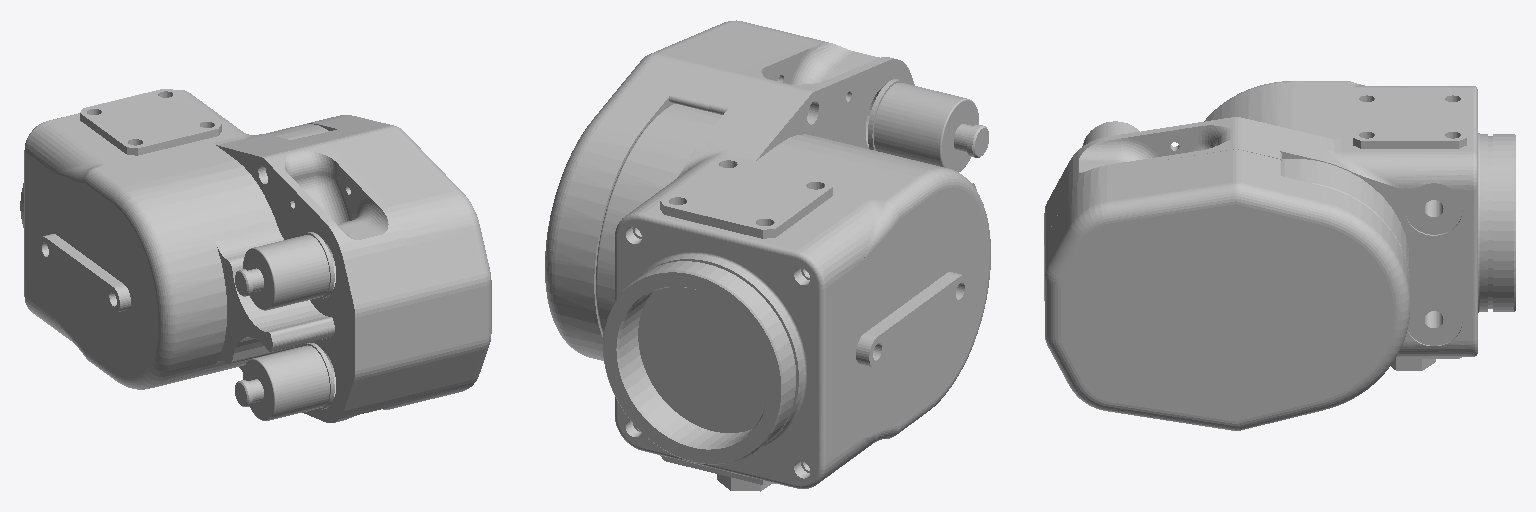
robot.urdf — hdt_arm:
<?xml version="1.0" ?>
<!-- =================================================================================== -->
<!-- |    This document was autogenerated by xacro from hdt_angler_a.xacro             | -->
<!-- |    EDITING THIS FILE BY HAND IS NOT RECOMMENDED                                 | -->
<!-- =================================================================================== -->
<robot name="hdt_arm" xmlns:xacro="http://wiki.ros.org/xacro">

  <!-- materials -->
  <material name="black">
    <color rgba="0.78431372549 0.78431372549 0.78431372549 1.0"/>
  </material>
  <material name="grey">
    <color rgba="0.250980392157 0.250980392157 0.250980392157 1.0"/>
  </material>
  <material name="yellow">
    <color rgba="0.941176470588 0.878431372549 0.250980392157 1.0"/>
  </material>

  <link name="base_link">
    <collision>
      <origin rpy="0 0 0" xyz="0 0 0"/>
      <geometry>
        <mesh filename="meshes/H026994 - A35 M-2 PEDESTAL ASSY - SHAREABLE.STL"/>
      </geometry>
    </collision>
    <visual>
      <origin rpy="0 0 0" xyz="0 0 0"/>
      <geometry>
        <mesh filename="meshes/H026994 - A35 M-2 PEDESTAL ASSY - SHAREABLE.STL"/>
      </geometry>
      <material name="black"/>
    </visual>
    <inertial>
      <origin rpy="0 0 0" xyz="0 0 0"/>
      <mass value="1"/>
      <inertia ixx="0.05" ixy="0.01" ixz="0.01" iyy="0.05" iyz="0.01" izz="0.05"/>
    </inertial>
  </link>
  <!-- drive 1 -->
  <joint name="drive1_joint" type="revolute">
    <axis xyz="0 0 1"/>
    <limit effort="60.0" lower="-6.28318530718" upper="6.28318530718" velocity="0.785398163397"/>
    <origin rpy="0 0 -1.57079632679" xyz="0 0 0.08335"/>
    <parent link="base_link"/>
    <child link="drive1_link"/>
    <dynamics damping="10.7" friction="10.0"/>
  </joint>
  <link name="drive1_link">
    <collision>
      <origin rpy="0 0 0" xyz="0 0 0"/>
      <geometry>
        <mesh filename="meshes/H024840 - A35 M-2 DRIVE MODULE, SHAREABLE.STL"/>
      </geometry>
    </collision>
    <visual>
      <origin rpy="0 0 0" xyz="0 0 0"/>
      <geometry>
        <mesh filename="meshes/H024840 - A35 M-2 DRIVE MODULE, SHAREABLE.STL"/>
      </geometry>
      <material name="black"/>
    </visual>
    <inertial>
      <origin rpy="0 0 0" xyz="0 0 0"/>
      <mass value="1"/>
      <inertia ixx="0.05" ixy="0.01" ixz="0.01" iyy="0.05" iyz="0.01" izz="0.05"/>
    </inertial>
  </link>
  <!-- drive 2 -->
  <joint name="drive2_joint" type="revolute">
    <axis xyz="0 0 1"/>
    <limit effort="60.0" lower="-1.57079632679" upper="1.57079632679" velocity="0.785398163397"/>
    <origin rpy="0 -1.57079632679 0" xyz="0.07155 0 0"/>
    <parent link="drive1_link"/>
    <child link="drive2_link"/>
    <dynamics damping="10.7" friction="10.0"/>
  </joint>
  <link name="drive2_link">
    <collision>
      <origin rpy="3.14159265359 0 0" xyz="0 0 0"/>
      <geometry>
        <mesh filename="meshes/H024840 - A35 M-2 DRIVE MODULE, SHAREABLE.STL"/>
      </geometry>
    </collision>
    <visual>
      <origin rpy="3.14159265359 0 0" xyz="0 0 0"/>
      <geometry>
        <mesh filename="meshes/H024840 - A35 M-2 DRIVE MODULE, SHAREABLE.STL"/>
      </geometry>
      <material name="black"/>
    </visual>
    <inertial>
      <origin rpy="3.14159265359 0 0" xyz="0 0 0"/>
      <mass value="1"/>
      <inertia ixx="0.05" ixy="0.01" ixz="0.01" iyy="0.05" iyz="0.01" izz="0.05"/>
    </inertial>
  </link>
  <!-- humerus -->
  <!-- <joint name="humerus_joint" type="fixed">
    <origin rpy="0 0 0" xyz="0.17855 0 0"/>
    <parent link="drive2_link"/>
    <child link="humerus_link"/>
  </joint> -->
  <!-- <link name="humerus_link">
    <collision>
      <origin rpy="0 0 0" xyz="0 0 0"/>
      <geometry>
        <mesh filename="meshes/H024847 - A35 M-2 PROXIMAL TUBE ASSY - SHAREABLE.STL"/>
      </geometry>
    </collision>
    <visual>
      <origin rpy="0 0 0" xyz="0 0 0"/>
      <geometry>
        <mesh filename="meshes/H024847 - A35 M-2 PROXIMAL TUBE ASSY - SHAREABLE.STL"/>
      </geometry>
      <material name="black"/>
    </visual>
    <inertial>
      <origin rpy="0 0 0" xyz="0 0 0"/>
      <mass value="1"/>
      <inertia ixx="0.05" ixy="0.01" ixz="0.01" iyy="0.05" iyz="0.01" izz="0.05"/>
    </inertial>
  </link> -->
  <!-- elbow -->
  <!-- <joint name="elbow_joint" type="fixed">
    <origin rpy="0 0 0" xyz="0.17855 0 0"/>
    <parent link="humerus_link"/>
    <child link="elbow_link"/>
  </joint> -->
  <!-- <link name="elbow_link">
    <collision>
      <origin rpy="0 3.14159265359 0" xyz="0 0 0"/>
      <geometry>
        <mesh filename="meshes/H024840 - A35 M-2 DRIVE MODULE, SHAREABLE.STL"/>
      </geometry>
    </collision>
    <visual>
      <origin rpy="0 3.14159265359 0" xyz="0 0 0"/>
      <geometry>
        <mesh filename="meshes/H024840 - A35 M-2 DRIVE MODULE, SHAREABLE.STL"/>
      </geometry>
      <material name="black"/>
    </visual>
    <inertial>
      <origin rpy="0 3.14159265359 0" xyz="0 0 0"/>
      <mass value="1"/>
      <inertia ixx="0.05" ixy="0.01" ixz="0.01" iyy="0.05" iyz="0.01" izz="0.05"/>
    </inertial>
  </link> -->
  <!-- drive 3 -->
  <joint name="drive3_joint" type="revolute">
    <axis xyz="0 0 1"/>
    <!-- position limits to match parameter settings on actuator -->
    <limit effort="60.0" lower="-4.49" upper="1.35" velocity="0.785398163397"/>
    <origin rpy="0 0 0" xyz="0.3571 0 0.07155"/>
    <parent link="drive2_link"/>
    <child link="drive3_link"/>
    <dynamics damping="10.7" friction="10.0"/>
  </joint>
  <link name="drive3_link">
    <collision>
      <origin rpy="0 1.57079632679 -1.57079632679" xyz="0 0 0"/>
      <geometry>
        <mesh filename="meshes/H024840 - A35 M-2 DRIVE MODULE, SHAREABLE.STL"/>
      </geometry>
    </collision>
    <visual>
      <origin rpy="0 1.57079632679 -1.57079632679" xyz="0 0 0"/>
      <geometry>
        <mesh filename="meshes/H024840 - A35 M-2 DRIVE MODULE, SHAREABLE.STL"/>
      </geometry>
      <material name="black"/>
    </visual>
    <inertial>
      <origin rpy="0 1.57079632679 -1.57079632679" xyz="0 0 0"/>
      <mass value="1"/>
      <inertia ixx="0.05" ixy="0.01" ixz="0.01" iyy="0.05" iyz="0.01" izz="0.05"/>
    </inertial>
  </link>
  <!-- drive 4 -->
  <joint name="drive4_joint" type="revolute">
    <axis xyz="0 0 1"/>
    <limit effort="60.0" lower="-6.28318530718" upper="6.28318530718" velocity="0.785398163397"/>
    <origin rpy="-1.57079632679 0 0" xyz="0 0.142 0"/>
    <parent link="drive3_link"/>
    <child link="drive4_link"/>
    <dynamics damping="10.7" friction="10.0"/>
  </joint>
  <link name="drive4_link">
    <collision>
      <origin rpy="3.14159265359 0 0" xyz="0 0 0"/>
      <geometry>
        <mesh filename="meshes/H024848 - A35 M-2 DISTAL TUBE ASSY - SHAREABLE.STL"/>
      </geometry>
    </collision>
    <visual>
      <origin rpy="3.14159265359 0 0" xyz="0 0 0"/>
      <geometry>
        <mesh filename="meshes/H024848 - A35 M-2 DISTAL TUBE ASSY - SHAREABLE.STL"/>
      </geometry>
      <material name="black"/>
    </visual>
    <inertial>
      <origin rpy="3.14159265359 0 0" xyz="0 0 0"/>
      <mass value="1"/>
      <inertia ixx="0.05" ixy="0.01" ixz="0.01" iyy="0.05" iyz="0.01" izz="0.05"/>
    </inertial>
  </link>
  <!-- wrist -->
  <!-- <joint name="wrist_joint" type="fixed">
    <origin rpy="1.57079632679 -1.57079632679 3.14159265359" xyz="0 0 0.12955"/>
    <parent link="drive4_link"/>
    <child link="wrist_link"/>
  </joint> -->
  <!-- <link name="wrist_link">
    <collision>
      <origin rpy="0 0 3.14159265359" xyz="0 0 0"/>
      <geometry>
        <mesh filename="meshes/H024840 - A35 M-2 DRIVE MODULE, SHAREABLE.STL"/>
      </geometry>
    </collision>
    <visual>
      <origin rpy="0 0 3.14159265359" xyz="0 0 0"/>
      <geometry>
        <mesh filename="meshes/H024840 - A35 M-2 DRIVE MODULE, SHAREABLE.STL"/>
      </geometry>
      <material name="black"/>
    </visual>
    <inertial>
      <origin rpy="0 0 3.14159265359" xyz="0 0 0"/>
      <mass value="1"/>
      <inertia ixx="0.05" ixy="0.01" ixz="0.01" iyy="0.05" iyz="0.01" izz="0.05"/>
    </inertial>
  </link> -->
  <!-- drive 5 -->
  <joint name="drive5_joint" type="revolute">
    <axis xyz="0 0 1"/>
    <limit effort="60.0" lower="-6.28318530718" upper="6.28318530718" velocity="0.785398163397"/>
    <origin rpy="-1.5707963 0 1.5707963" xyz="0 -0.07155 0.12955"/> 
    <!-- <body name="drive5_link" pos="0 -0.07155 0.12955" quat="-0.5 -0.5 0.5 -0.5"> -->
    <parent link="drive4_link"/>
    <child link="drive5_link"/>
    <dynamics damping="10.7" friction="10.0"/>
  </joint>
  <link name="drive5_link">
    <collision>
      <origin rpy="0 1.57079632679 3.14159265359" xyz="0 0 0"/>
      <geometry>
        <mesh filename="meshes/H024840 - A35 M-2 DRIVE MODULE, SHAREABLE.STL"/>
      </geometry>
    </collision>
    <visual>
      <origin rpy="0 1.57079632679 3.14159265359" xyz="0 0 0"/>
      <geometry>
        <mesh filename="meshes/H024840 - A35 M-2 DRIVE MODULE, SHAREABLE.STL"/>
      </geometry>
      <material name="black"/>
    </visual>
    <inertial>
      <origin rpy="0 0 0" xyz="0 0 0"/>
      <mass value="1"/>
      <inertia ixx="0.05" ixy="0.01" ixz="0.01" iyy="0.05" iyz="0.01" izz="0.05"/>
    </inertial>
  </link>
  <!-- drive 6 -->
  <joint name="drive6_joint" type="revolute">
    <axis xyz="0 0 1"/>
    <limit effort="60.0" lower="-6.28318530718" upper="6.28318530718" velocity="0.785398163397"/>
    <origin rpy="0 1.57079632679 0" xyz="0.0885 0 0"/>
    <parent link="drive5_link"/>
    <child link="drive6_link"/>
    <dynamics damping="10.7" friction="10.0"/>
  </joint>
  <link name="drive6_link">
    <collision>
      <origin rpy="0 1.57079632679 -1.57079632679" xyz="0 0 0"/>
      <geometry>
        <mesh filename="meshes/H024842 - A35 M-2 PINCER ASSY - SHAREABLE, UNDERWATER.STL"/>
      </geometry>
    </collision>
    <visual>
      <origin rpy="0 1.57079632679 -1.57079632679" xyz="0 0 0"/>
      <geometry>
        <mesh filename="meshes/H024842 - A35 M-2 PINCER ASSY - SHAREABLE, UNDERWATER.STL"/>
      </geometry>
      <material name="black"/>
    </visual>
    <inertial>
      <origin rpy="0 0 0" xyz="0 0 0"/>
      <mass value="1"/>
      <inertia ixx="0.05" ixy="0.01" ixz="0.01" iyy="0.05" iyz="0.01" izz="0.05"/>
    </inertial>
  </link>
  <!-- endpoint -->
  <joint name="endpoint_joint" type="fixed">
    <origin rpy="1.57079632679 -1.57079632679 0" xyz="0 0 0.1"/>
    <parent link="drive6_link"/>
    <child link="endpoint_link"/>
  </joint>
  <link name="endpoint_link">
    </link>
</robot>

--- What the picture shows (computed from the rendered views, not written in the file) ---
Views: 3 orthographic renders of the robot side by side, from view 1: azimuth 30°, elevation 25°; view 2: azimuth 150°, elevation 25°; view 3: azimuth 270°, elevation 25°.
Robot: hdt_arm — 8 links, 7 joints (6 revolute, 1 fixed); root link base_link; default pose: all joints at 0.
Links seen in each view (by area): view 1: drive6_link; view 2: drive6_link; view 3: drive6_link.
Link boxes in pixels (box(x1,y1,x2,y2)): drive6_link: box(20, 89, 491, 422); drive6_link: box(545, 20, 990, 491); drive6_link: box(1044, 81, 1515, 430).
Bounding box of the posed robot: 0.0708 × 0.1 × 0.0608 m (x, y, z).
1 mesh visuals loaded from 4 distinct referenced files (1 binary STL); not drawn: 6 (reference not matched to a file when rendering).